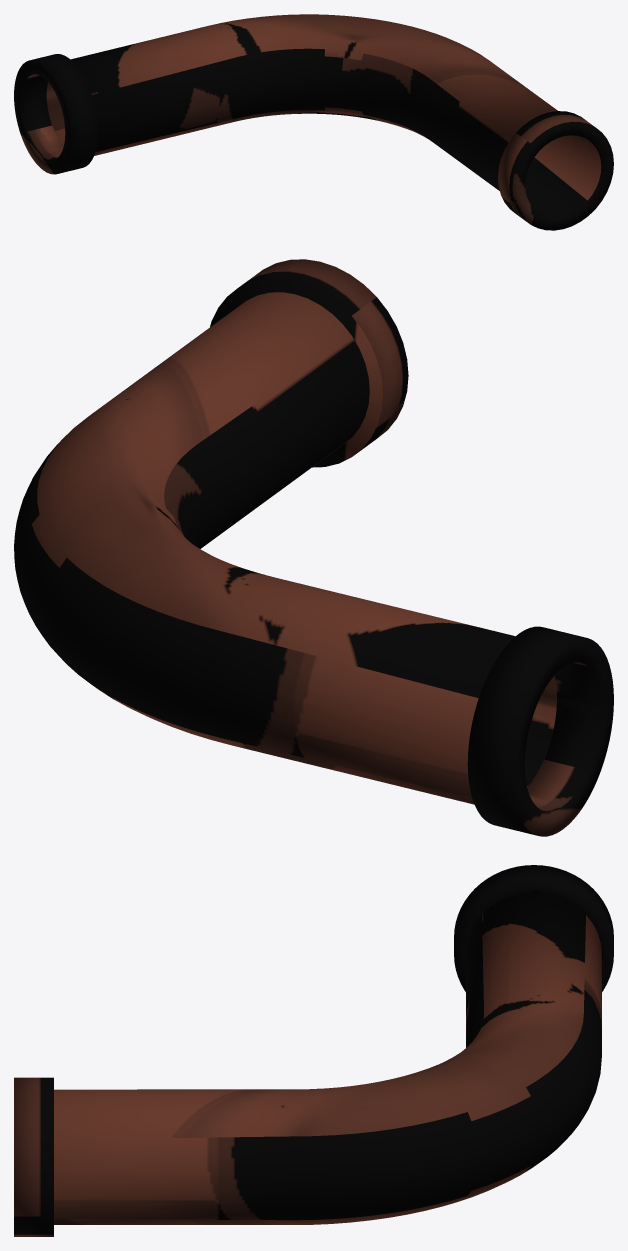
The model's file is Pipe thin short turn WE.glb.
3 renders of one model, top to bottom at view 1: azimuth 30°, elevation 25°; view 2: azimuth 150°, elevation 25°; view 3: azimuth 270°, elevation 25°, orthographic. The views are drawn at different scales.
Parts seen in each view (by area): view 1: Pipe thin short turn WE; view 2: Pipe thin short turn WE; view 3: Pipe thin short turn WE.
Part boxes in pixels (bbox=[...]): Pipe thin short turn WE: bbox=[14, 14, 613, 230]; Pipe thin short turn WE: bbox=[14, 259, 613, 836]; Pipe thin short turn WE: bbox=[14, 865, 613, 1236].
Size of the model in its own units: 10.67 by 2.85 by 10.67.
Materials: 1 (1 with a texture image).
